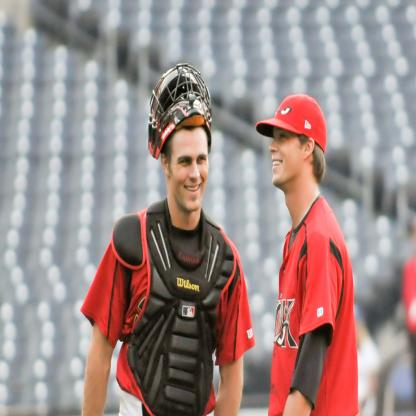Helmet: (148, 61, 212, 160)
